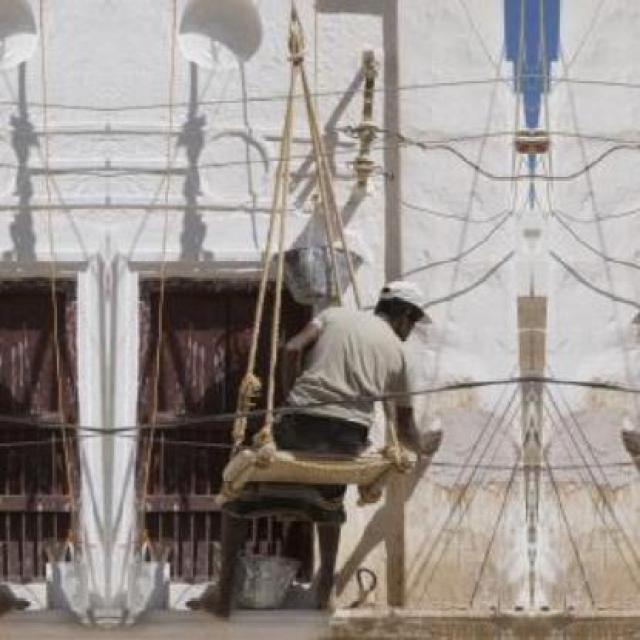helmet: (367, 262, 446, 351), (617, 262, 637, 352)
